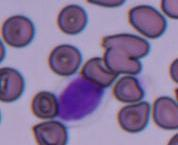L: (55, 75, 106, 125)
